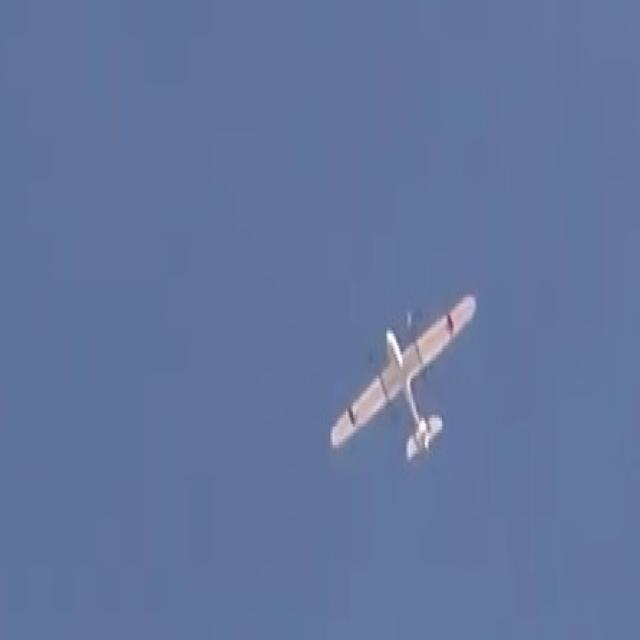iha: (330, 291, 476, 464)
